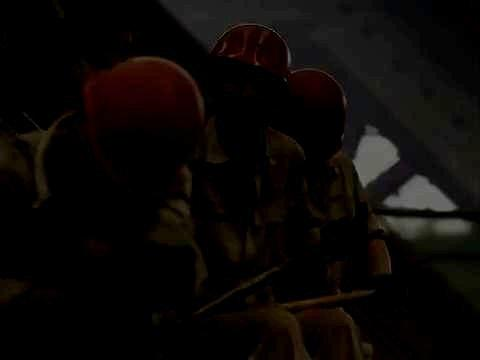helmet: (67, 56, 206, 210), (198, 23, 292, 136), (271, 69, 348, 168)
